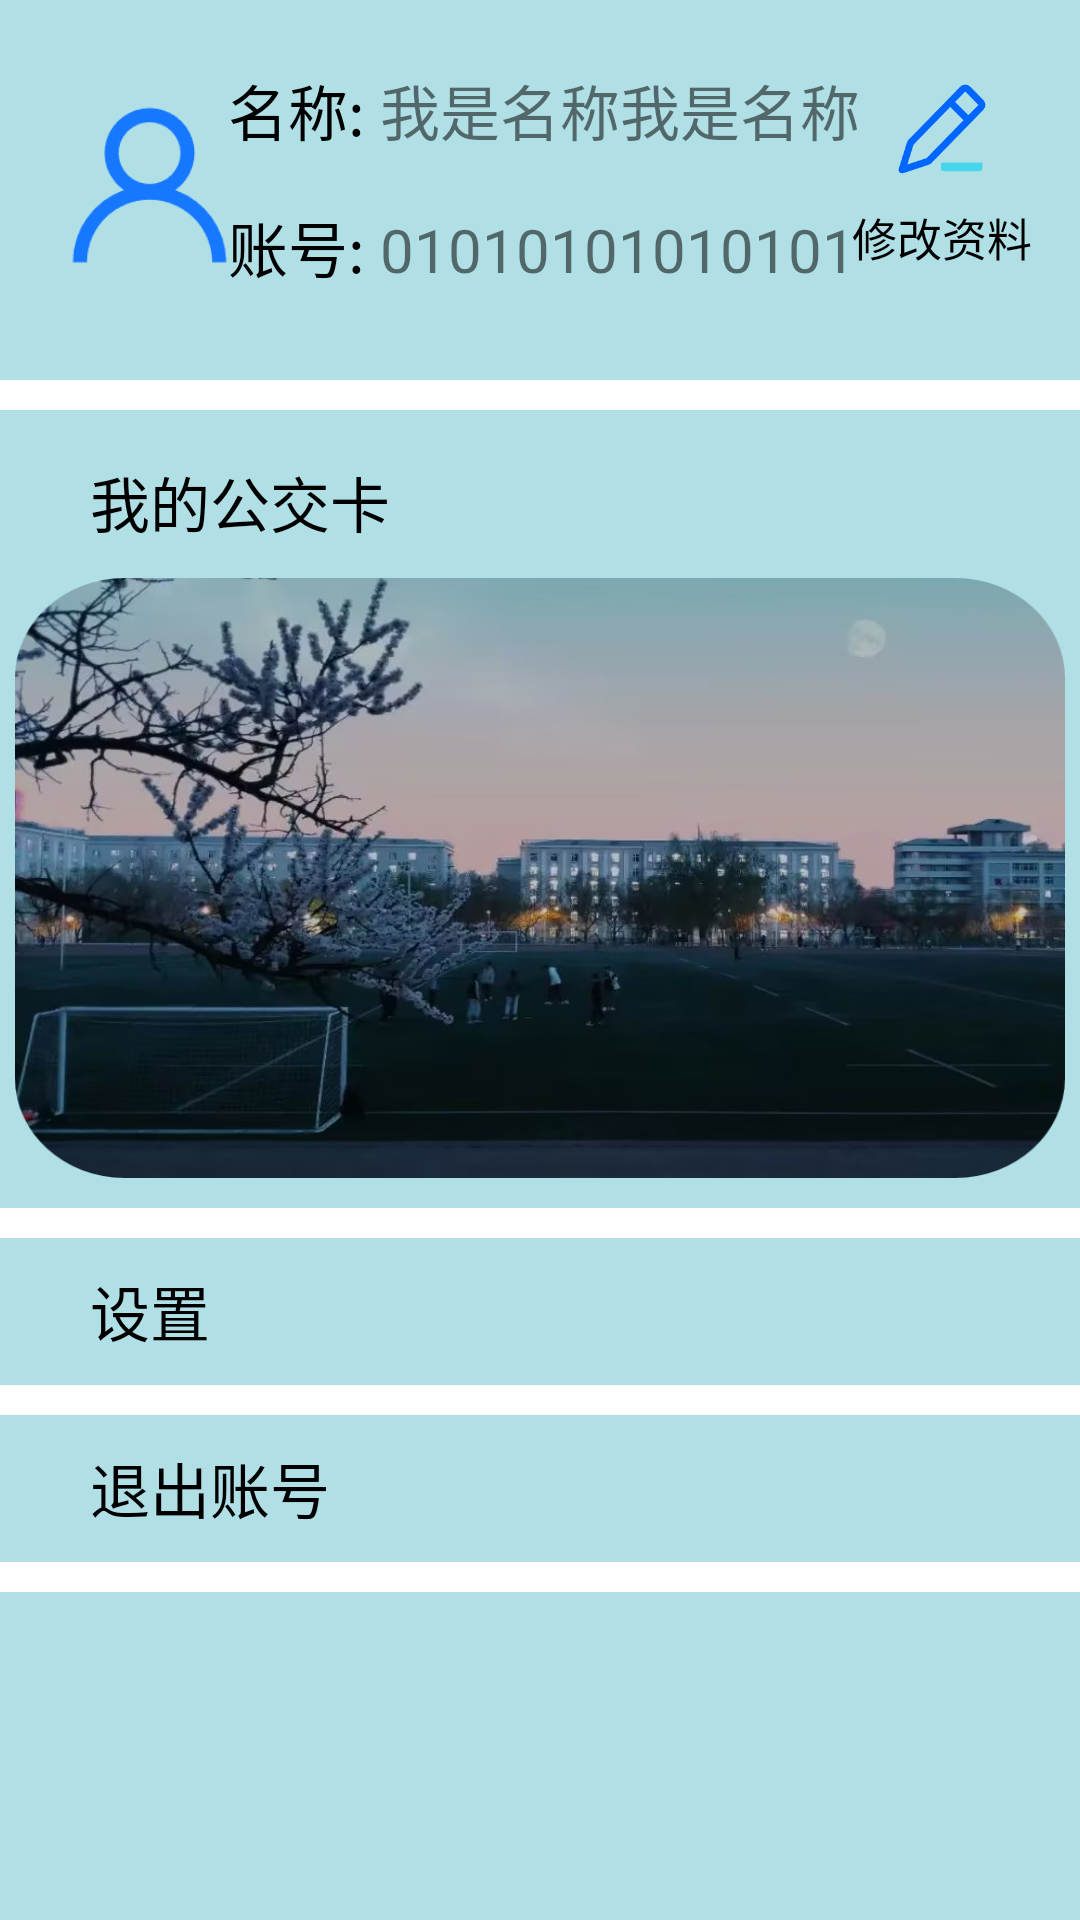

Screen size 1080x1920. Icon name, then its center in pixels as (x=x, y=y):
modify: (x=942, y=129)
user: (x=163, y=192)
